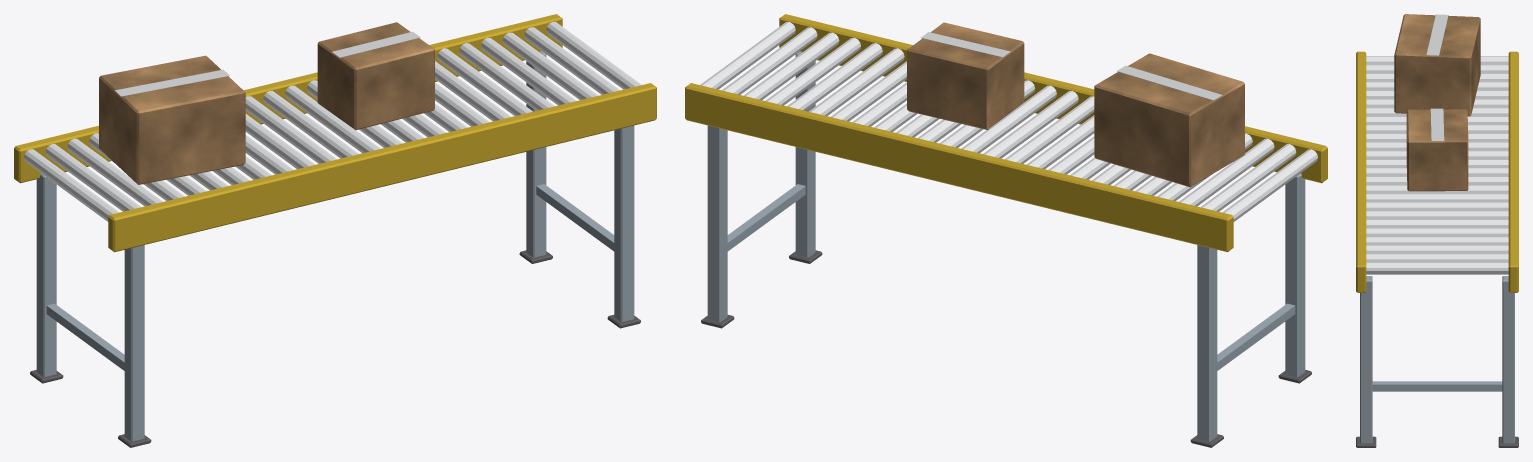
File: esteira_rolante.glb
The picture shows the model from 3 angles, left to right: view 1: azimuth 30°, elevation 25°; view 2: azimuth 150°, elevation 25°; view 3: azimuth 270°, elevation 25°; orthographic projection. The views are drawn at different scales.
Parts seen in each view (by area): view 1: esteira_rolante_aco_polido, esteira_rolante_amarelo_maquina, esteira_rolante_papelao, esteira_rolante_aco_pintado, esteira_rolante_fita_prata, esteira_rolante_borracha; view 2: esteira_rolante_aco_polido, esteira_rolante_amarelo_maquina, esteira_rolante_papelao, esteira_rolante_aco_pintado, esteira_rolante_fita_prata, esteira_rolante_borracha; view 3: esteira_rolante_aco_polido, esteira_rolante_papelao, esteira_rolante_aco_pintado, esteira_rolante_amarelo_maquina, esteira_rolante_fita_prata, esteira_rolante_borracha.
Boxes of the visible parts, bbox=[...] form: esteira_rolante_aco_polido: bbox=[24, 22, 641, 221]; esteira_rolante_amarelo_maquina: bbox=[14, 14, 656, 252]; esteira_rolante_papelao: bbox=[99, 22, 434, 184]; esteira_rolante_aco_pintado: bbox=[36, 51, 634, 441]; esteira_rolante_fita_prata: bbox=[114, 31, 420, 96]; esteira_rolante_borracha: bbox=[30, 250, 640, 447]; esteira_rolante_aco_polido: bbox=[700, 22, 1317, 221]; esteira_rolante_amarelo_maquina: bbox=[685, 14, 1327, 252]; esteira_rolante_papelao: bbox=[907, 22, 1244, 187]; esteira_rolante_aco_pintado: bbox=[707, 51, 1305, 441]; esteira_rolante_fita_prata: bbox=[921, 32, 1222, 100]; esteira_rolante_borracha: bbox=[701, 250, 1311, 447]; esteira_rolante_aco_polido: bbox=[1366, 56, 1508, 274]; esteira_rolante_papelao: bbox=[1394, 14, 1480, 191]; esteira_rolante_aco_pintado: bbox=[1360, 276, 1514, 443]; esteira_rolante_amarelo_maquina: bbox=[1356, 51, 1518, 292]; esteira_rolante_fita_prata: bbox=[1426, 14, 1448, 141]; esteira_rolante_borracha: bbox=[1356, 436, 1518, 447].
Bounding box in the file's own units: 2 × 1.08 × 0.64.
Materials: 6 (1 with a texture image).
